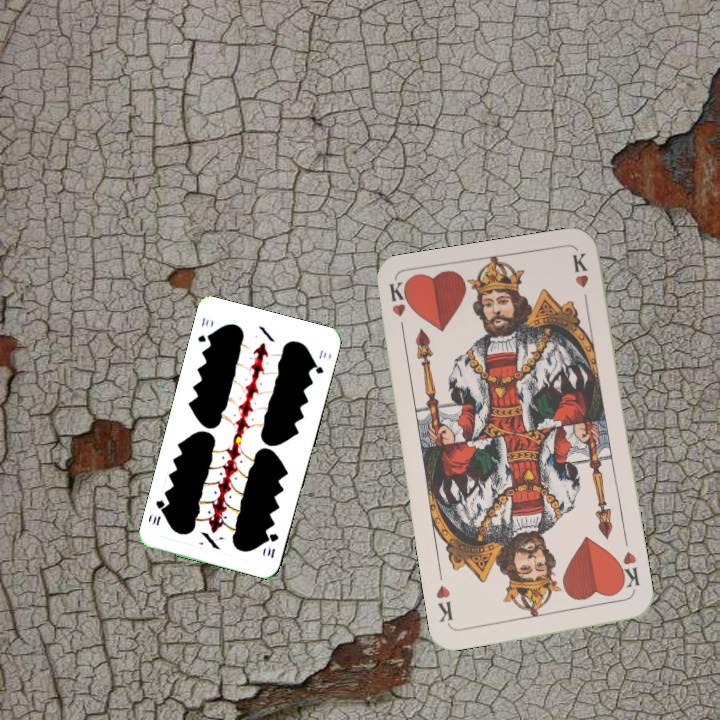G10: (193, 313, 214, 345), (263, 529, 281, 561)
HK: (385, 279, 412, 339), (613, 548, 642, 596)
